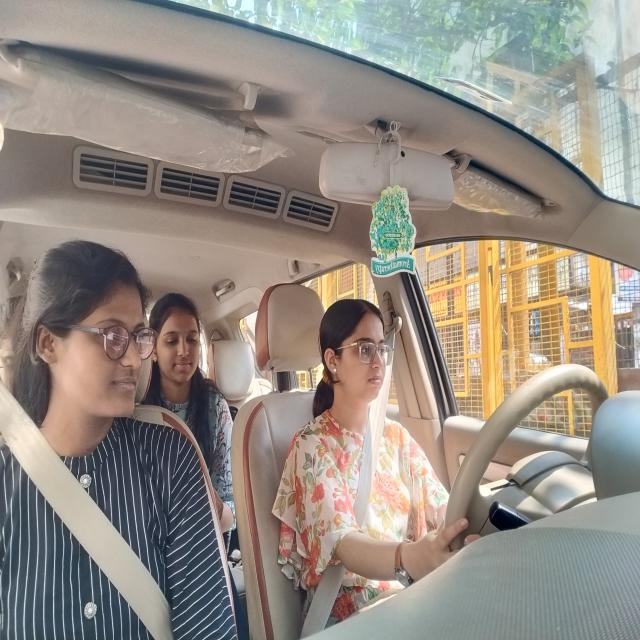person: (54, 270, 149, 423), (319, 301, 397, 406), (153, 305, 211, 407)
